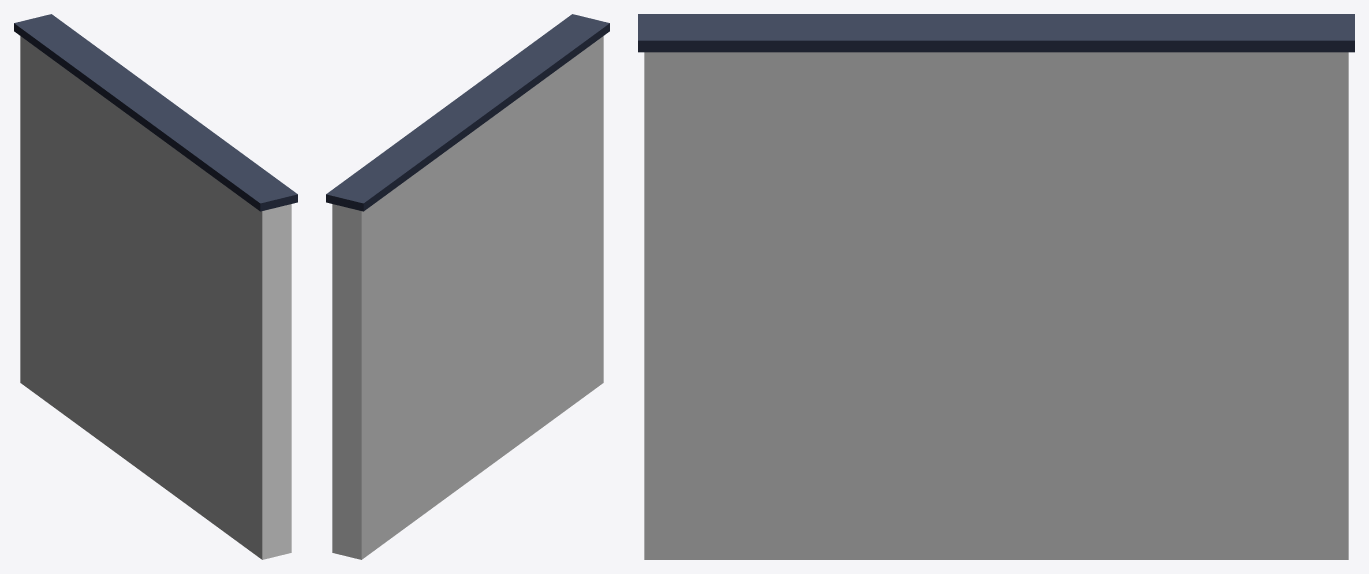
The model's file is TB_CITY_BD_Roofwall_B.FBX.
3 renders of one model, left to right at view 1: azimuth 30°, elevation 25°; view 2: azimuth 150°, elevation 25°; view 3: azimuth 270°, elevation 25°, orthographic. The views are drawn at different scales.
Parts seen in each view (by area): view 1: TB_CITY_BD_Roofwall_B; view 2: TB_CITY_BD_Roofwall_B; view 3: TB_CITY_BD_Roofwall_B.
Part boxes in pixels (bbox=[...]): TB_CITY_BD_Roofwall_B: bbox=[14, 14, 297, 559]; TB_CITY_BD_Roofwall_B: bbox=[326, 14, 609, 559]; TB_CITY_BD_Roofwall_B: bbox=[638, 14, 1354, 559].
Bounding box in the file's own units: 0.7162 × 6.54 × 8.13.
